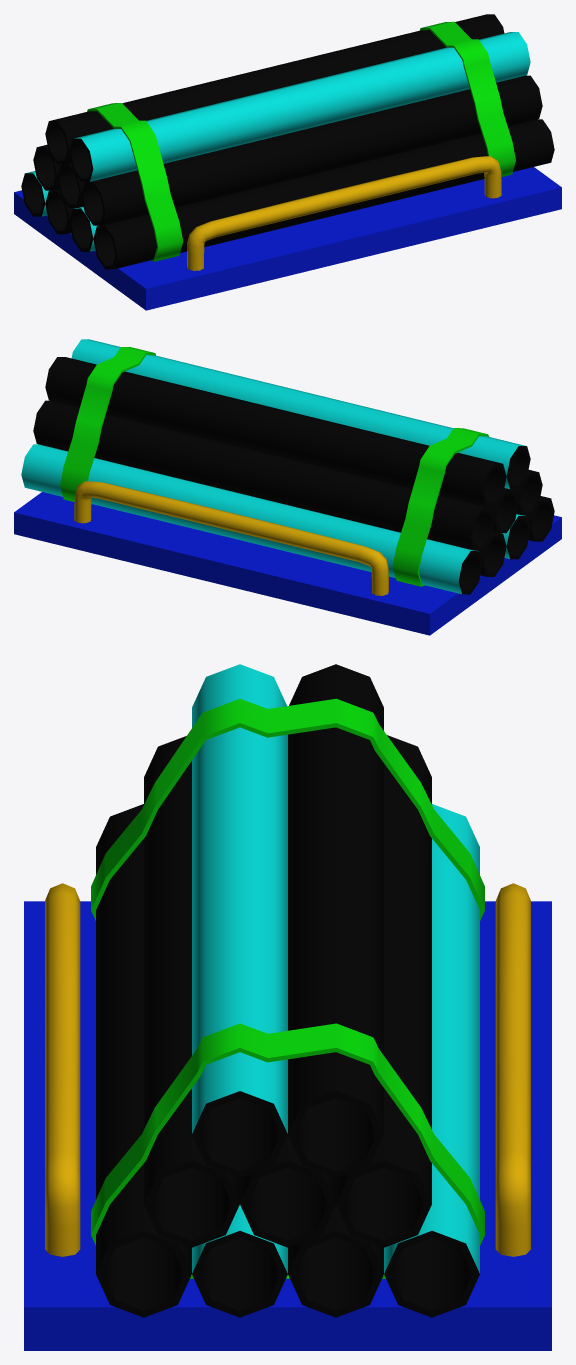
Rendered from SM_PROP_PIPE_CONTAINER.fbx.
3 renders of one model, top to bottom at view 1: azimuth 30°, elevation 25°; view 2: azimuth 150°, elevation 25°; view 3: azimuth 270°, elevation 25°, orthographic. The views are drawn at different scales.
Parts seen in each view (by area): view 1: SM_PROP_PIPE_CONTAINER; view 2: SM_PROP_PIPE_CONTAINER; view 3: SM_PROP_PIPE_CONTAINER.
Part boxes in pixels (x1,y1,x2,y2): SM_PROP_PIPE_CONTAINER: (14, 14, 561, 310); SM_PROP_PIPE_CONTAINER: (14, 339, 561, 635); SM_PROP_PIPE_CONTAINER: (24, 664, 551, 1350).
Bounding box in the file's own units: 4.21 × 1.26 × 2.2.
